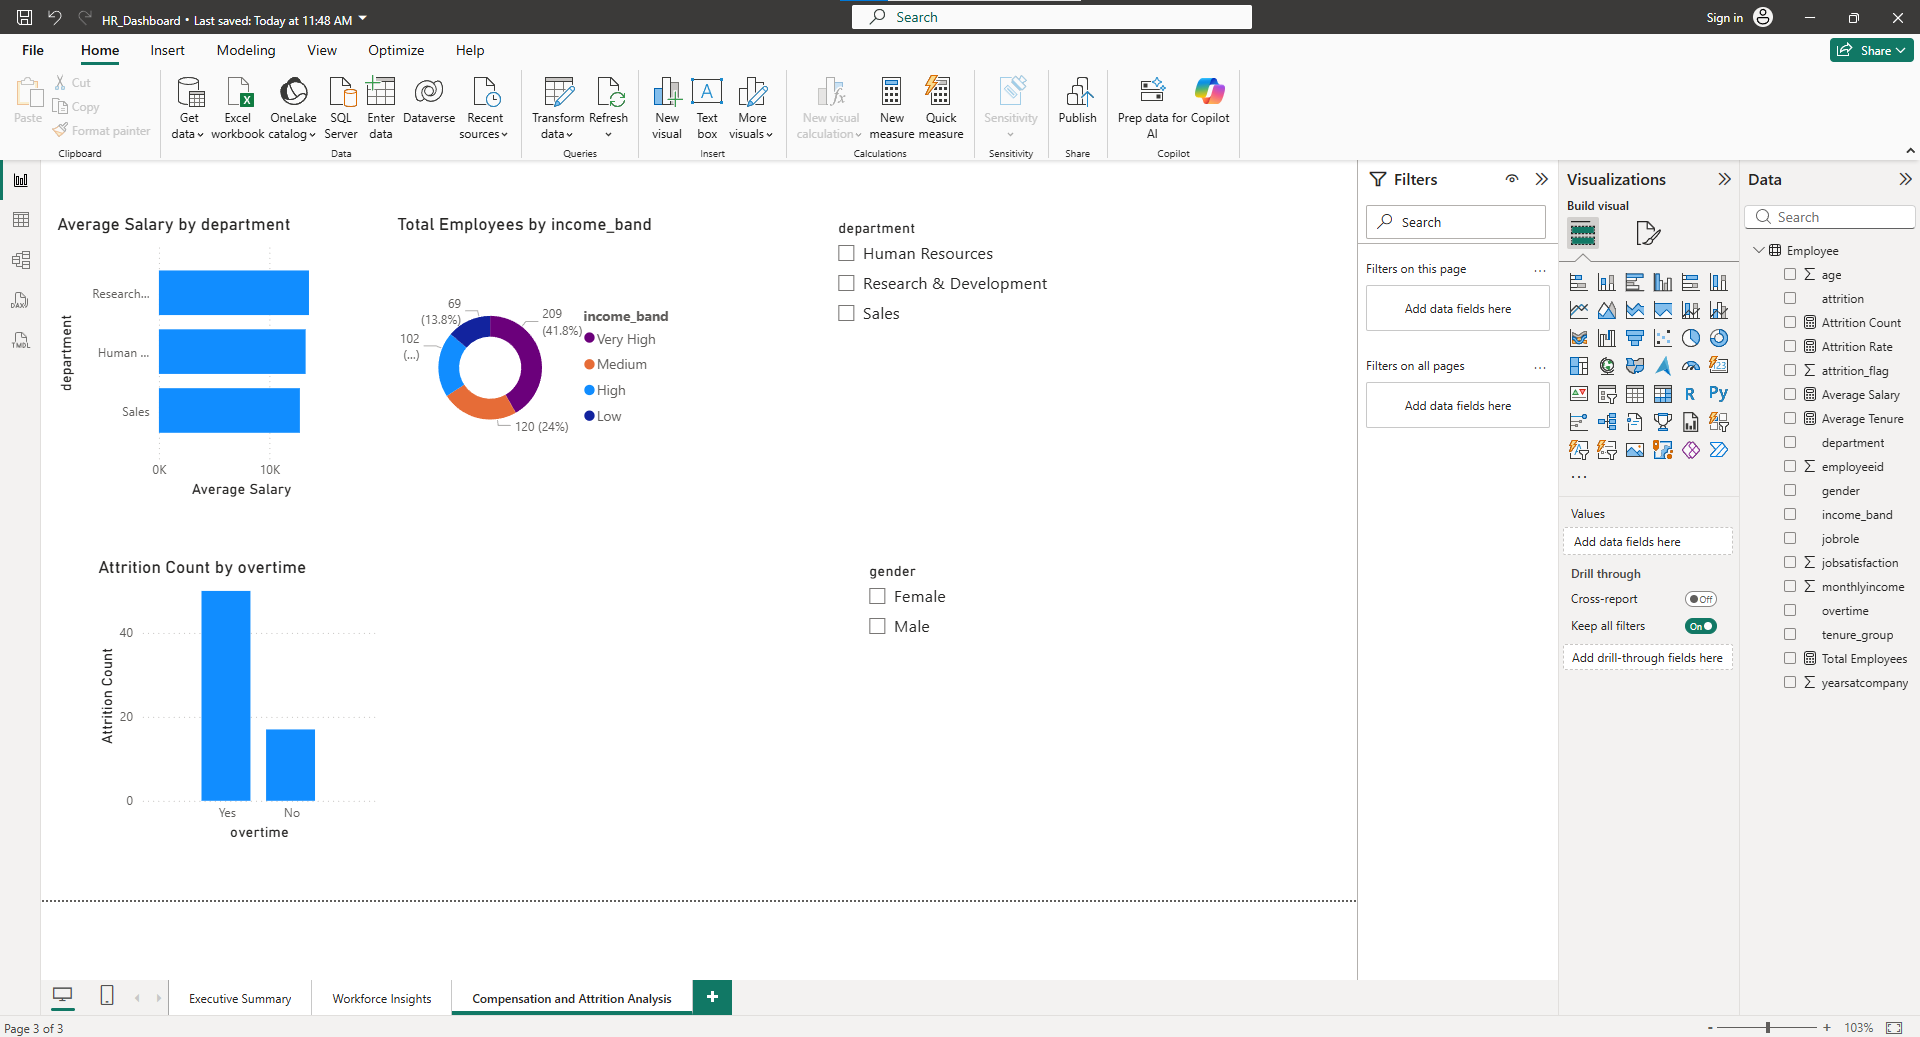

What the dashboard file says about the page in this screenshot:
{"tool":"powerbi","page":{"name":"Compensation and Attrition Analysis","canvas":[1280,720],"ordinal":2},"visuals":[{"type":"clusteredBarChart","fields":{"Y":["Employee.Average Salary"],"Category":["Employee.department"]},"box":[10.7,52.5,280.1,280.1],"z":0},{"type":"clusteredColumnChart","fields":{"Category":["Employee.overtime"],"Y":["Employee.Attrition Count"]},"box":[50.6,386.1,280.1,280.1],"z":1000},{"type":"donutChart","fields":{"Category":["Employee.income_band"],"Y":["Employee.Total Employees"]},"box":[341,53,280,280],"z":2000},{"type":"slicer","fields":{"Values":["Employee.department"]},"box":[762.6,52.5,279.1,156.6],"z":3000},{"type":"slicer","fields":{"Values":["Employee.gender"]},"box":[762.4,393.6,219.9,125.2],"z":4000},{"type":"textbox","box":[350.2,9.7,271.4,87.5],"z":5000},{"type":"textbox","box":[950,686,300.5,33.1],"z":6000}]}

Visuals, with their boxes on the page's 1280x720 design canvas (x1, y1, x2, y2). These are canvas units, not pixel positions in the 1920x1037 screenshot, which may show the page scaled, cropped or inside an application window:
clusteredBarChart - Employee.Average Salary x Employee.department: [11, 52, 291, 333]
clusteredColumnChart - Employee.overtime x Employee.Attrition Count: [51, 386, 331, 666]
donutChart - Employee.income_band x Employee.Total Employees: [341, 53, 621, 333]
slicer - Employee.department: [763, 52, 1042, 209]
slicer - Employee.gender: [762, 394, 982, 519]
textbox: [350, 10, 622, 97]
textbox: [950, 686, 1250, 719]
